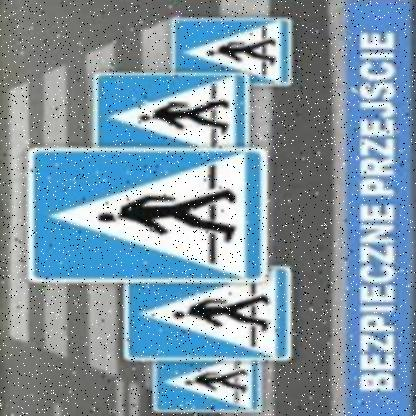Pedestrian Crossing: (23, 146, 272, 284), (116, 264, 293, 360), (88, 70, 257, 153), (174, 14, 301, 84), (148, 347, 268, 416)
